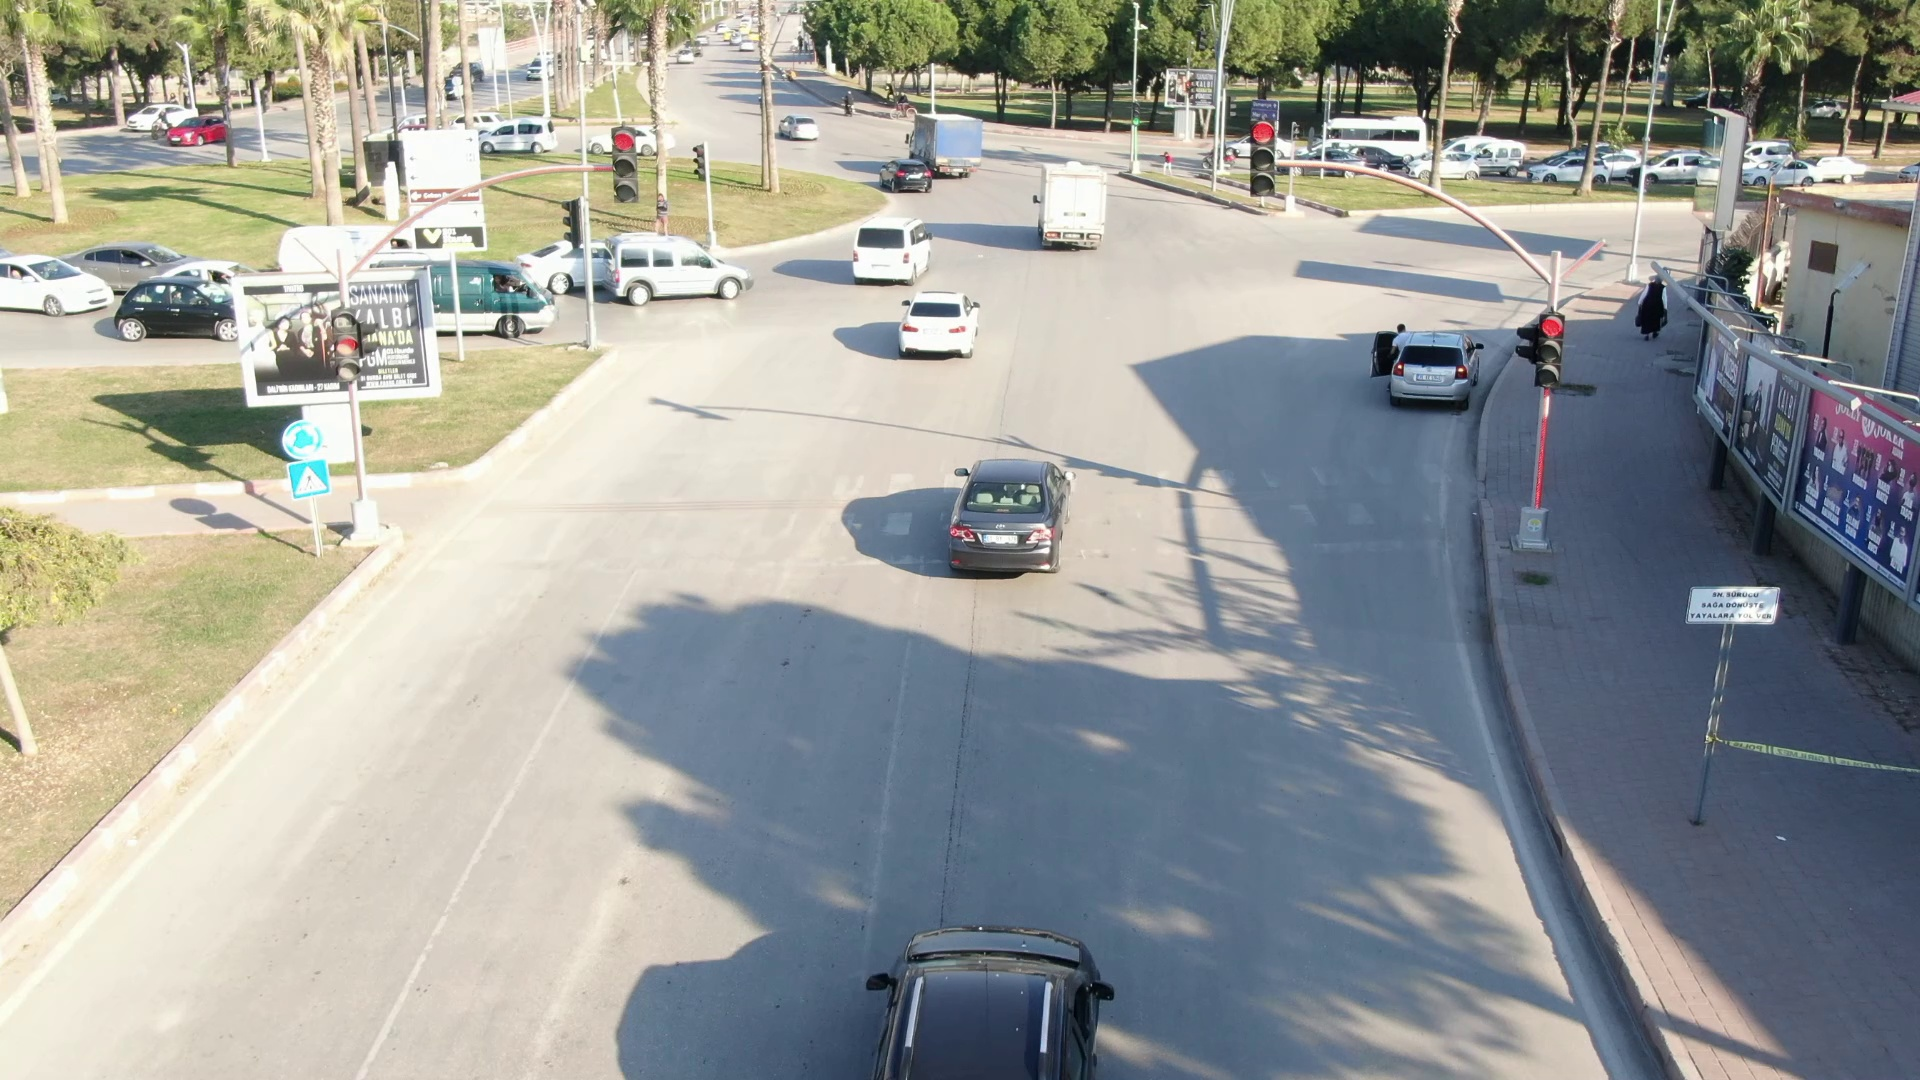car: (932, 448, 1106, 602), (599, 224, 767, 314), (108, 267, 251, 351), (1018, 154, 1122, 260), (887, 289, 1004, 366), (1375, 330, 1490, 406), (847, 209, 949, 289), (870, 156, 938, 196), (775, 115, 831, 146)
person: (1629, 265, 1677, 344)
